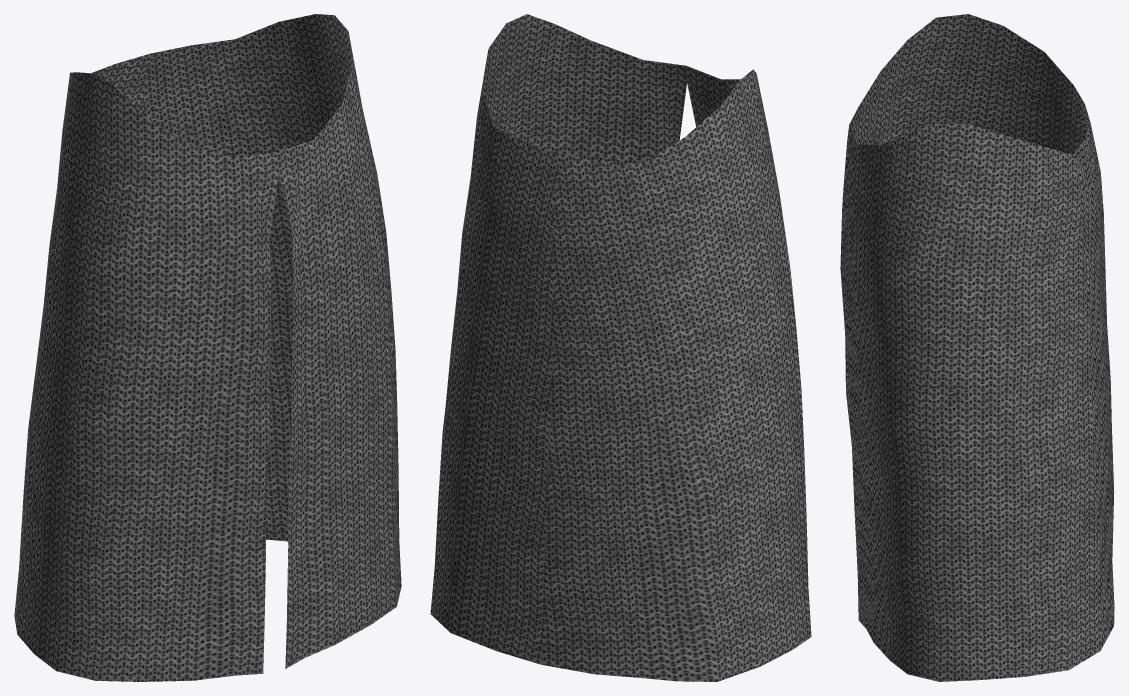
The model's file is clo_gondor_king_armor.fbx.
3 renders of one model, left to right at view 1: azimuth 30°, elevation 25°; view 2: azimuth 150°, elevation 25°; view 3: azimuth 270°, elevation 25°, orthographic. The views are drawn at different scales.
Parts seen in each view (by area): view 1: clo_gondor_king_armor; view 2: clo_gondor_king_armor; view 3: clo_gondor_king_armor.
Part boxes in pixels (bbox=[...]): clo_gondor_king_armor: bbox=[14, 14, 401, 681]; clo_gondor_king_armor: bbox=[430, 14, 811, 681]; clo_gondor_king_armor: bbox=[840, 14, 1114, 681].
Size of the model in its own units: 0.5015 by 0.3633 by 0.7989.
1 material, 1 textured.
